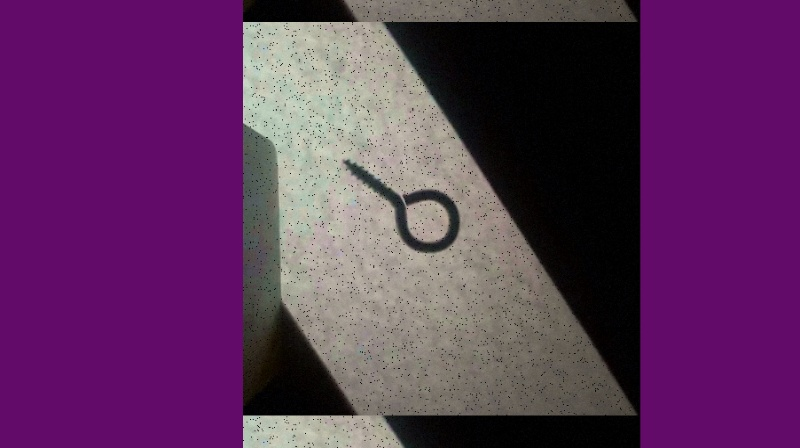O001: (338, 156, 460, 256)
